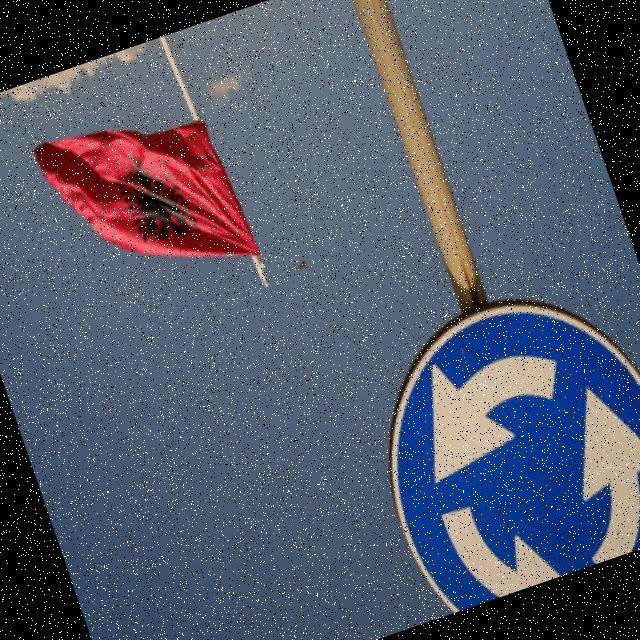round_about: (339, 261, 640, 620)
